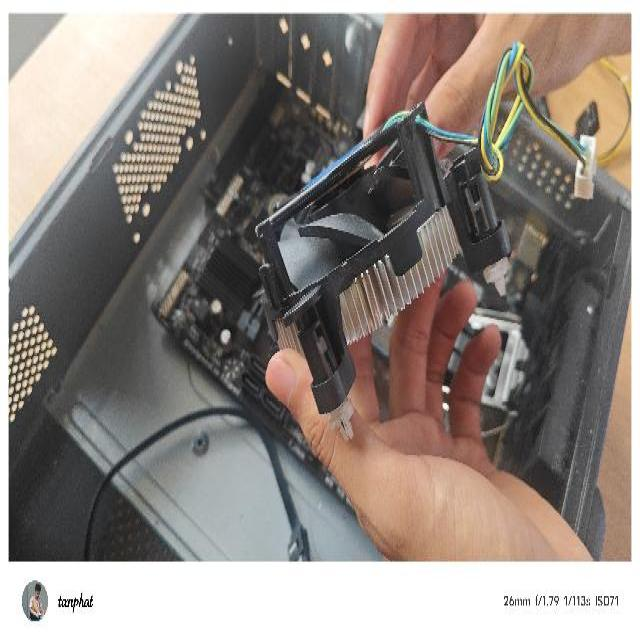CPU_Fan: (246, 95, 520, 435)
